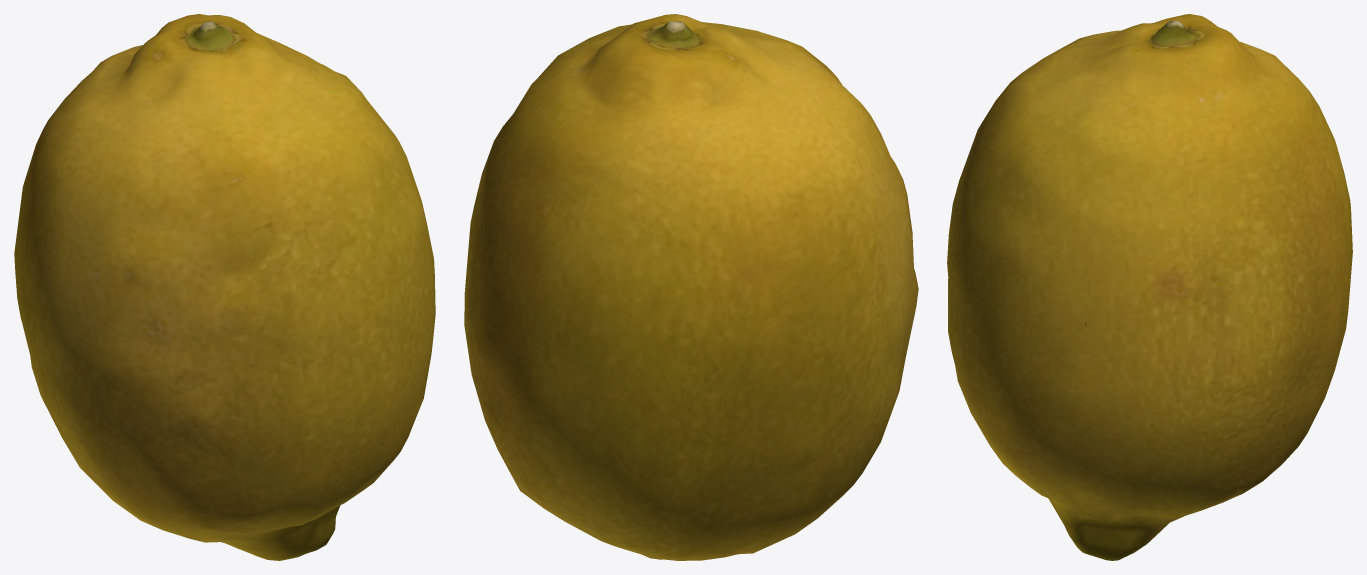
The model's file is lemon.glb.
3 renders of one model, left to right at view 1: azimuth 30°, elevation 25°; view 2: azimuth 150°, elevation 25°; view 3: azimuth 270°, elevation 25°, orthographic. The views are drawn at different scales.
Parts seen in each view (by area): view 1: lemon; view 2: lemon; view 3: lemon.
Boxes of the visible parts, box(x1,y1,x2,y2) form: lemon: box(14, 14, 435, 560); lemon: box(464, 14, 918, 560); lemon: box(947, 14, 1352, 560).
Bounding box in the file's own units: 0.0686 × 0.0953 × 0.0682.
Materials: 1 (1 with a texture image).
